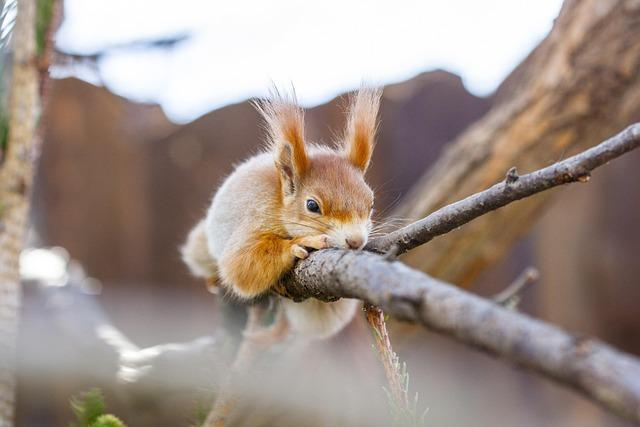Non_Gorille: (163, 85, 431, 338)
